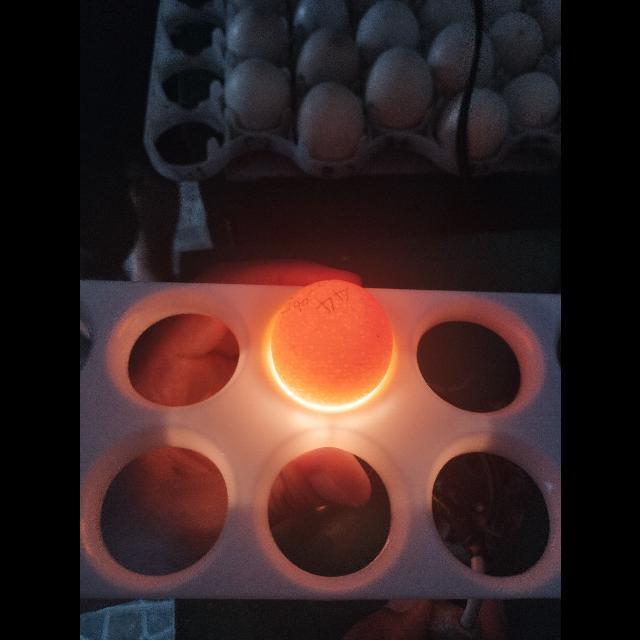Infertile: (266, 275, 396, 415)
